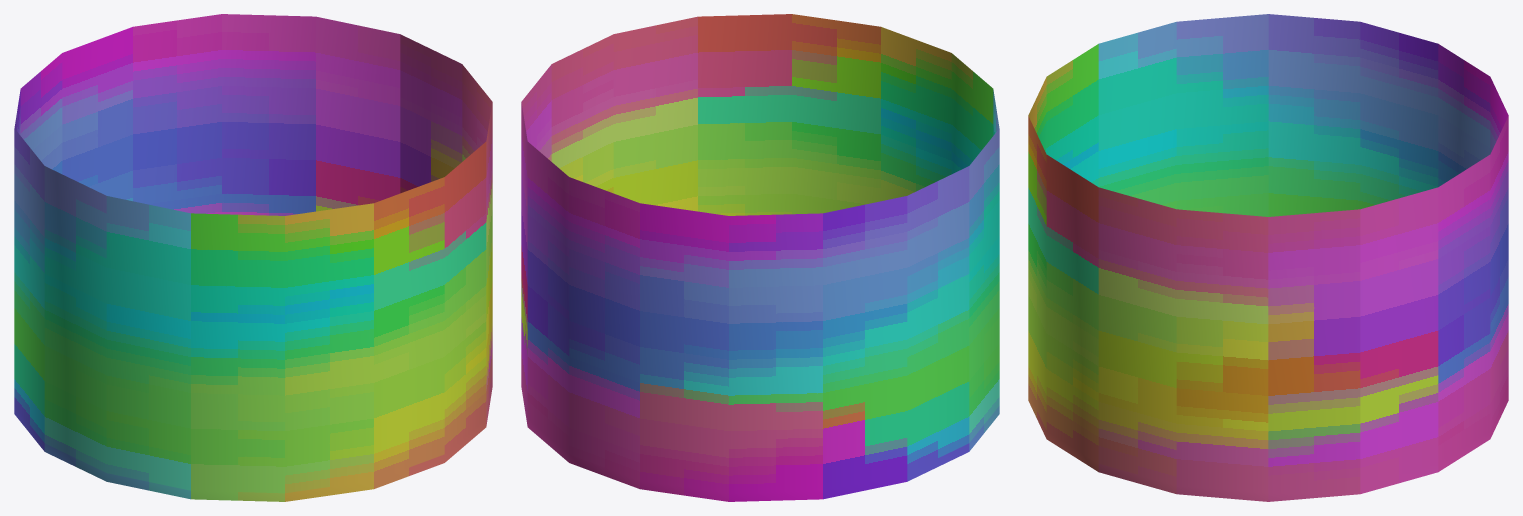
File: nokigate.dae
3 renders of one model, left to right at view 1: azimuth 30°, elevation 25°; view 2: azimuth 150°, elevation 25°; view 3: azimuth 270°, elevation 25°, orthographic.
Visible parts, largest first — view 1: n0b0; view 2: n0b0; view 3: n0b0.
Part boxes in pixels (left/top/right/bottom): n0b0: left=14, top=14, right=492, bottom=501; n0b0: left=521, top=14, right=999, bottom=501; n0b0: left=1028, top=14, right=1508, bottom=501.
Bounding box in the file's own units: 76.4 × 50 × 76.4.
Materials: 1 (1 with a texture image).
